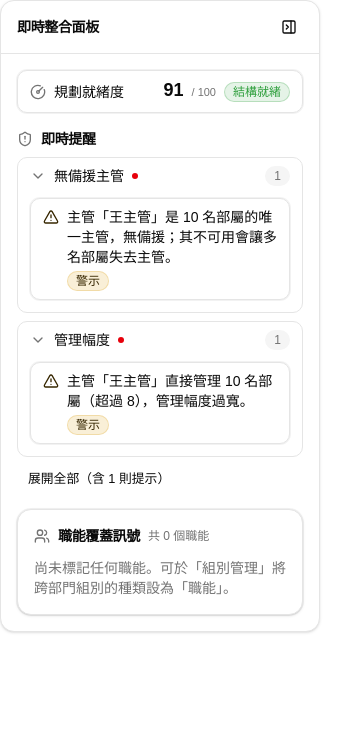
it: WorkbenchInsightPanel — CM 防過載（warning ⇄ 全部） › 預設只顯示 warning；點「展開全部」後 info 級 finding 出現，aria-pressed 同步
expect the text "主管「王主管」直接管理 10 名部屬（超過 8），管理幅度過寬。" is shown: met, box top-left (67, 371), bottom-right (277, 411)
expect the text "僅有 1 名直接部屬" is not shown: met
Click the button "展開全部（含 1 則提示）".
click(99, 479)  # box top-left (17, 465), bottom-right (181, 493)
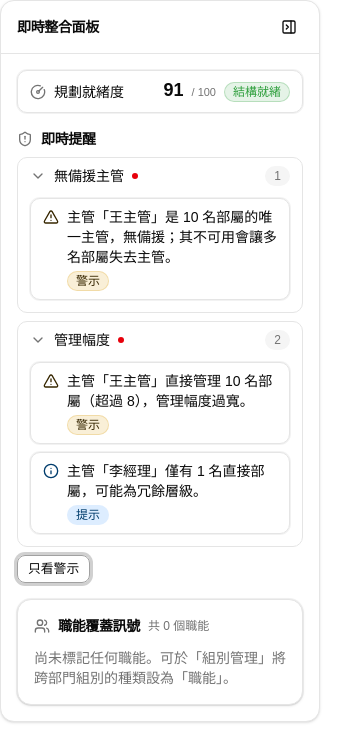
expect the text "主管「李經理」僅有 1 名直接部屬，可能為冗餘層級。" is shown: met, box top-left (67, 461), bottom-right (277, 501)
# 收起後 info 再次隱藏（雙向）。
Click the button "只看警示".
click(54, 569)  # box top-left (17, 555), bottom-right (90, 583)
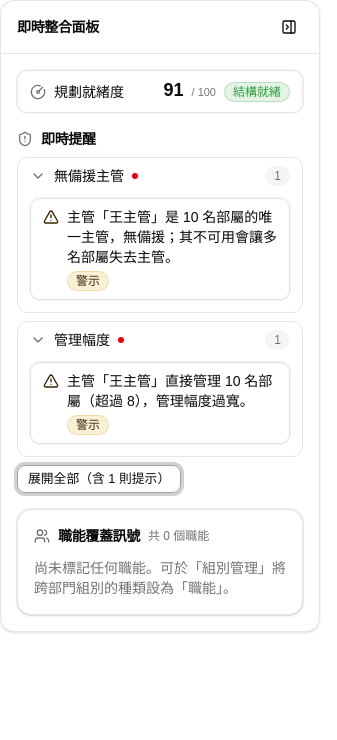
expect the text "僅有 1 名直接部屬" is gone: met
